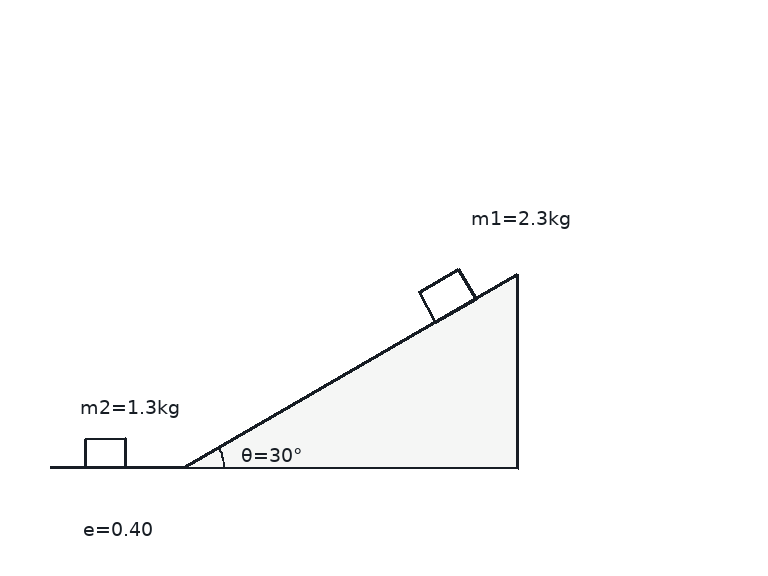block: (417, 267, 478, 324), (83, 436, 127, 469)
ramp: (182, 272, 519, 469)
